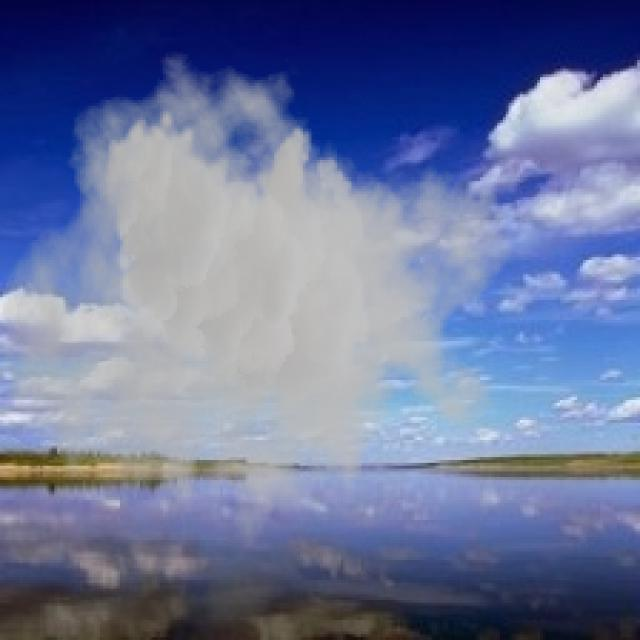smoke: (0, 51, 515, 572)
